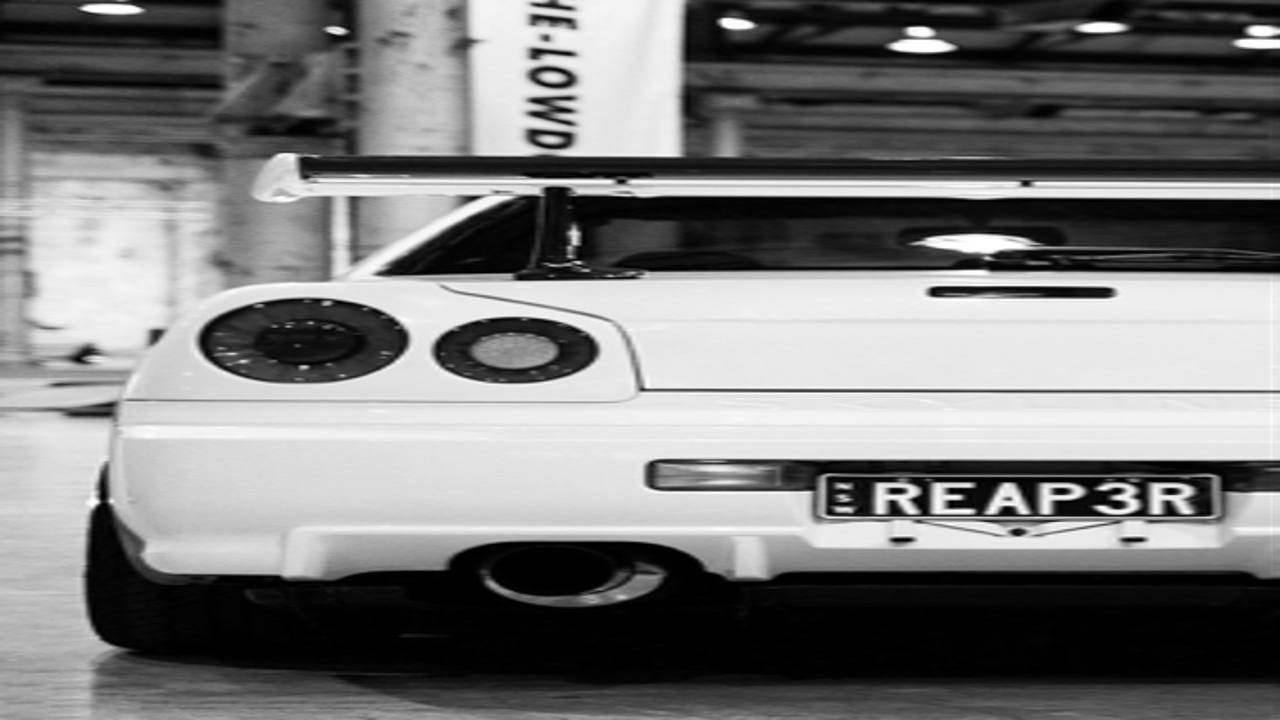license: (809, 463, 1233, 534)
